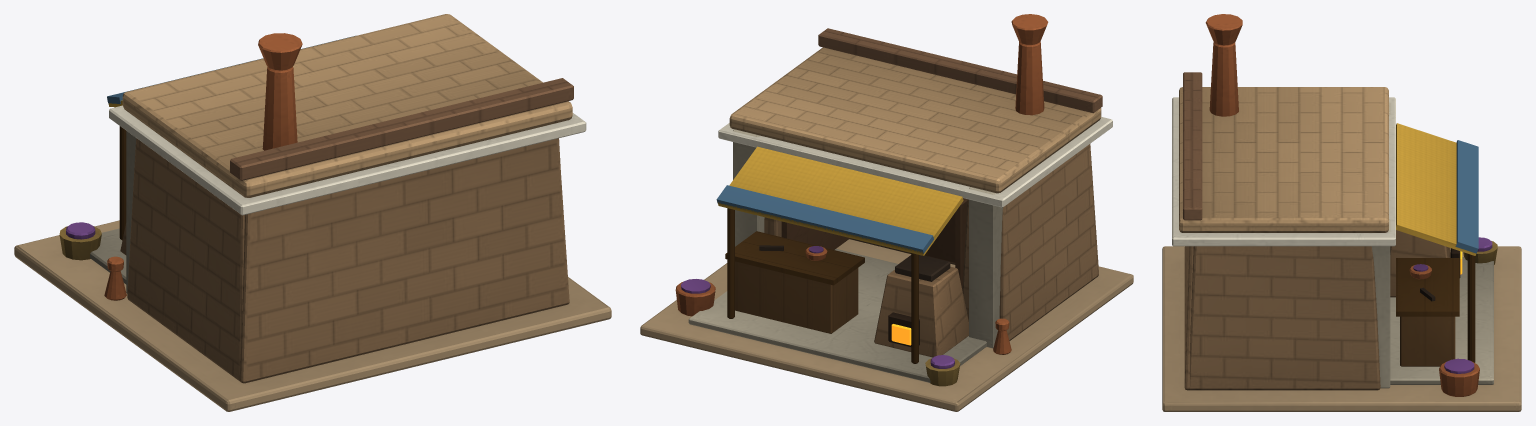
File: luxury_workshop.glb
3 renders of one model, left to right at view 1: azimuth 30°, elevation 25°; view 2: azimuth 150°, elevation 25°; view 3: azimuth 270°, elevation 25°, orthographic. The views are drawn at different scales.
Visible parts, largest first — view 1: luxury_workshop_mud_terra, luxury_workshop_mud_tan, luxury_workshop_dirt_apron, luxury_workshop_mud_dark, luxury_workshop_stone_white, luxury_workshop_pottery, luxury_workshop_stone_pale, luxury_workshop_thatch_dark, luxury_workshop_wood_dark; view 2: luxury_workshop_mud_tan, luxury_workshop_dirt_apron, luxury_workshop_stone_pale, luxury_workshop_mud_terra, luxury_workshop_cloth_yellow, luxury_workshop_wood_mid, luxury_workshop_wood_dark, luxury_workshop_stone_white, luxury_workshop_mud_dark, luxury_workshop_brick_sand, luxury_workshop_pottery, luxury_workshop_nile_blue (+4 smaller); view 3: luxury_workshop_mud_terra, luxury_workshop_mud_tan, luxury_workshop_dirt_apron, luxury_workshop_stone_pale, luxury_workshop_cloth_yellow, luxury_workshop_stone_white, luxury_workshop_wood_dark, luxury_workshop_pottery, luxury_workshop_mud_dark, luxury_workshop_wood_mid, luxury_workshop_nile_blue, luxury_workshop_brick_sand (+2 smaller).
Part boxes in pixels (box(x1,y1,x2,y2)): luxury_workshop_mud_terra: box(127, 138, 569, 383); luxury_workshop_mud_tan: box(122, 14, 572, 197); luxury_workshop_dirt_apron: box(14, 220, 611, 411); luxury_workshop_mud_dark: box(230, 78, 573, 180); luxury_workshop_stone_white: box(109, 105, 586, 215); luxury_workshop_pottery: box(104, 33, 302, 300); luxury_workshop_stone_pale: box(90, 131, 136, 293); luxury_workshop_thatch_dark: box(59, 226, 101, 260); luxury_workshop_wood_dark: box(119, 126, 126, 240); luxury_workshop_mud_tan: box(729, 47, 1101, 193); luxury_workshop_dirt_apron: box(640, 239, 1133, 411); luxury_workshop_stone_pale: box(688, 129, 1002, 382); luxury_workshop_mud_terra: box(764, 144, 1098, 340); luxury_workshop_cloth_yellow: box(718, 146, 963, 255); luxury_workshop_wood_mid: box(735, 261, 858, 333); luxury_workshop_wood_dark: box(725, 208, 928, 363); luxury_workshop_stone_white: box(718, 117, 1112, 207); luxury_workshop_mud_dark: box(818, 28, 1102, 113); luxury_workshop_brick_sand: box(874, 266, 968, 357); luxury_workshop_pottery: box(675, 14, 1048, 354); luxury_workshop_nile_blue: box(716, 185, 933, 253); luxury_workshop_mud_terra: box(1184, 246, 1380, 390); luxury_workshop_mud_tan: box(1179, 87, 1388, 232); luxury_workshop_dirt_apron: box(1162, 246, 1521, 411); luxury_workshop_stone_pale: box(1371, 102, 1493, 388); luxury_workshop_cloth_yellow: box(1396, 123, 1475, 255); luxury_workshop_stone_white: box(1172, 97, 1395, 246); luxury_workshop_wood_dark: box(1396, 254, 1475, 362); luxury_workshop_pottery: box(1205, 14, 1479, 396); luxury_workshop_mud_dark: box(1183, 72, 1202, 220); luxury_workshop_wood_mid: box(1400, 316, 1455, 366); luxury_workshop_nile_blue: box(1455, 140, 1478, 253); luxury_workshop_brick_sand: box(1390, 230, 1450, 297).
Size of the model in its own units: 2.7 by 2.16 by 2.6.
Materials: 19 (15 with a texture image).
